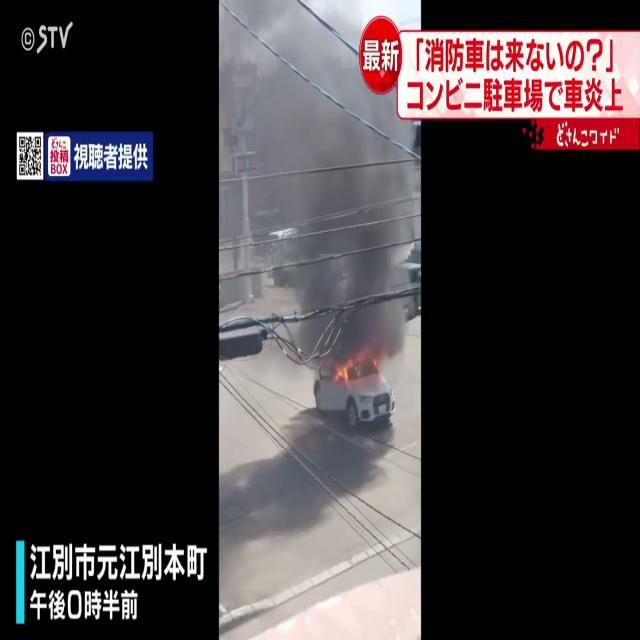Fire: (336, 352, 386, 392)
Smoke: (220, 0, 418, 375)
